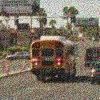buses: (31, 36, 81, 83)
